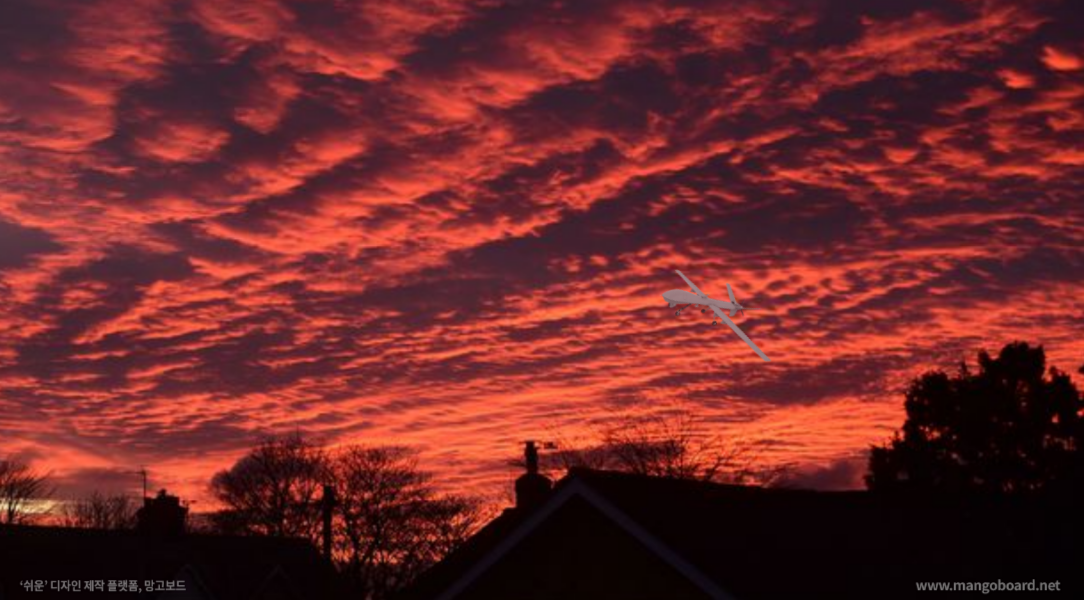military drone: (662, 269, 770, 361)
